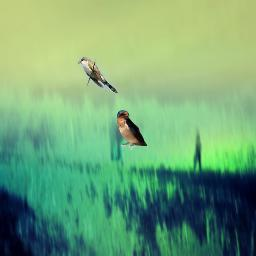Cuckoo: (78, 57, 118, 93)
Swallow: (117, 110, 147, 150)
